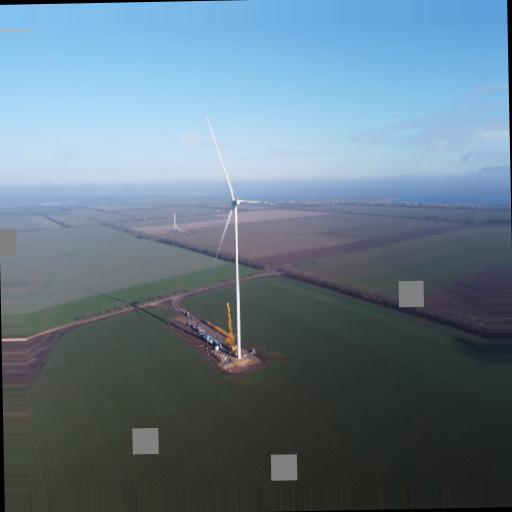wind turbine: (204, 116, 277, 360)
